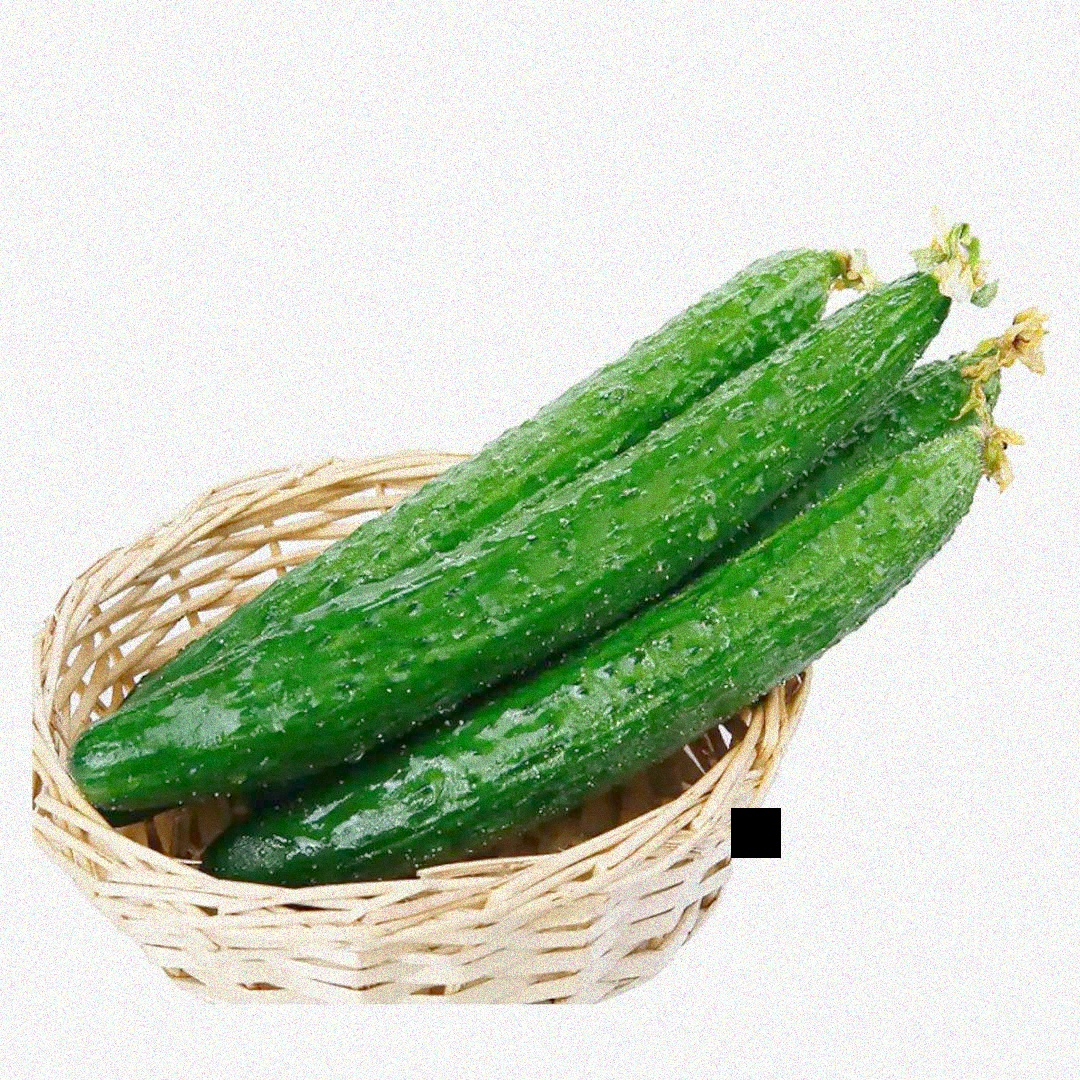cucumber: (92, 275, 954, 805), (249, 435, 984, 909)
